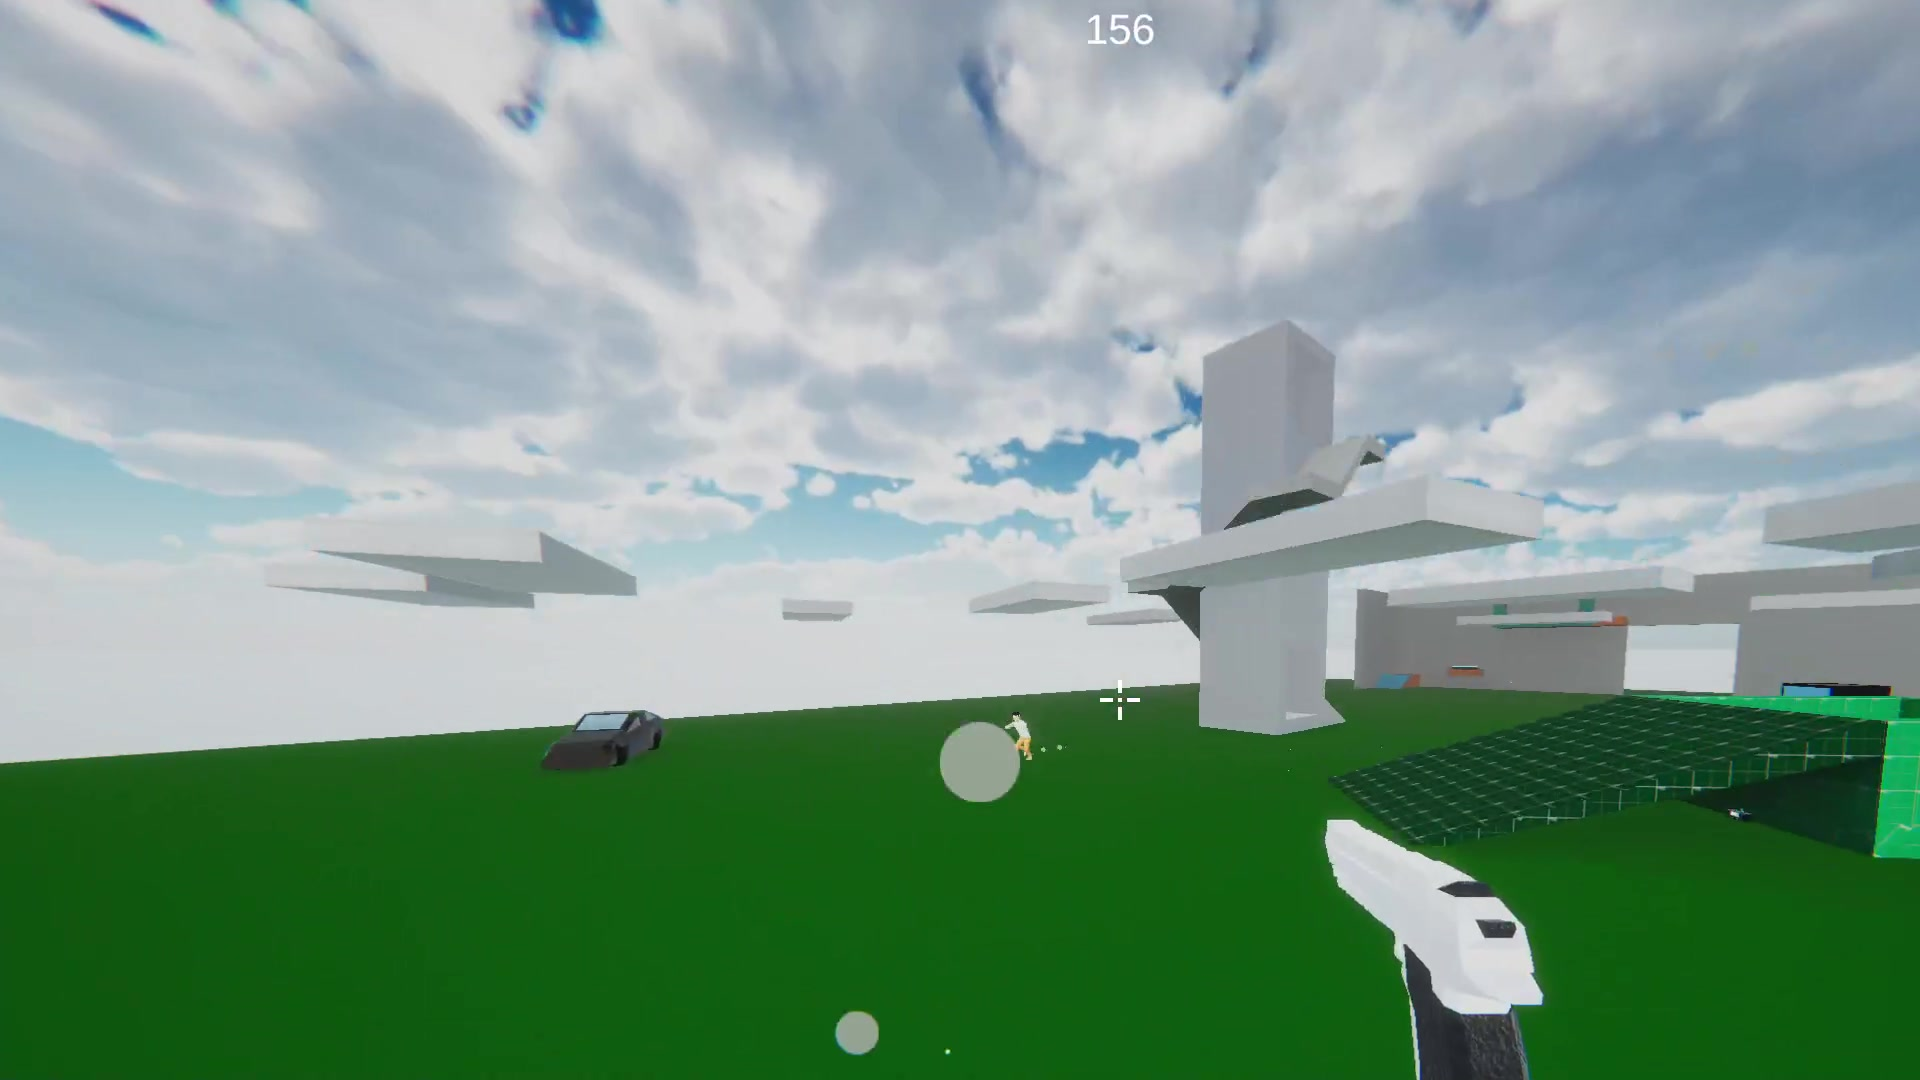human: (1010, 708, 1036, 766)
